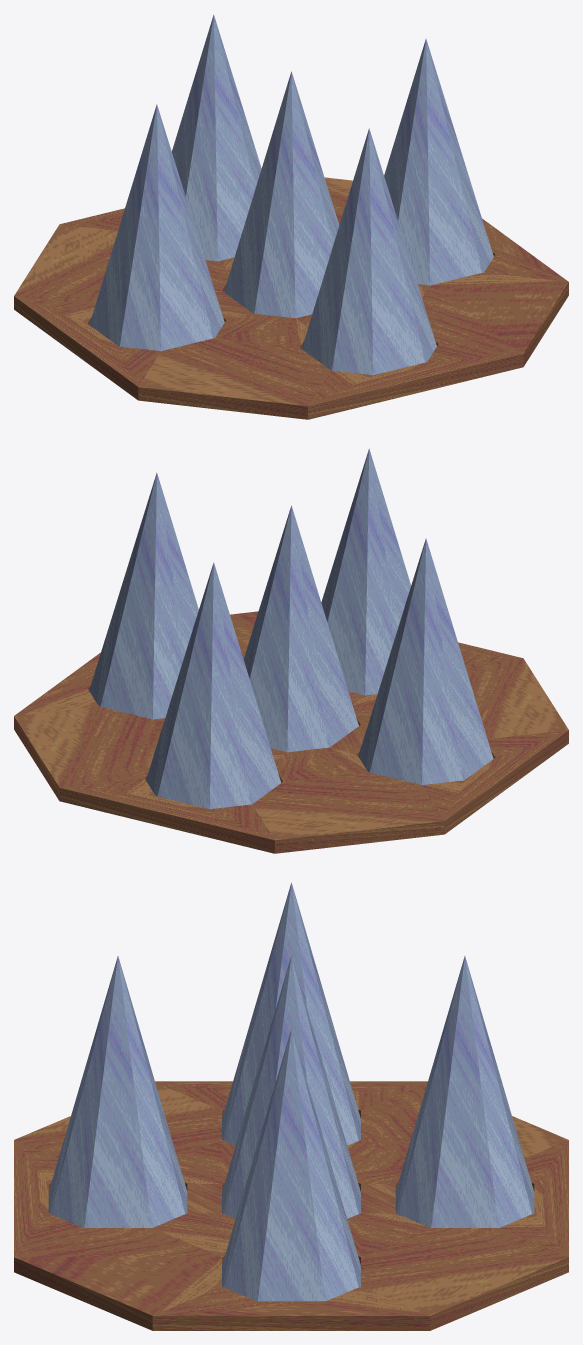
File: cave_toge.fbx
3 views of the same model, one above another, from view 1: azimuth 30°, elevation 25°; view 2: azimuth 150°, elevation 25°; view 3: azimuth 270°, elevation 25° (orthographic). The views are drawn at different scales.
Visible parts, largest first — view 1: toge, dai; view 2: toge, dai; view 3: toge, dai.
Part boxes in pixels (x1,y1,x2,y2): toge: [89, 14, 493, 375]; dai: [14, 177, 568, 419]; toge: [89, 448, 493, 809]; dai: [14, 611, 568, 853]; toge: [48, 882, 534, 1301]; dai: [14, 1081, 568, 1330].
Bounding box in the file's own units: 400 × 205 × 400.
